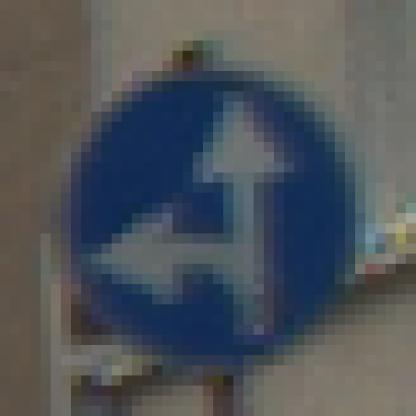Straight or Left: (62, 62, 356, 366)
